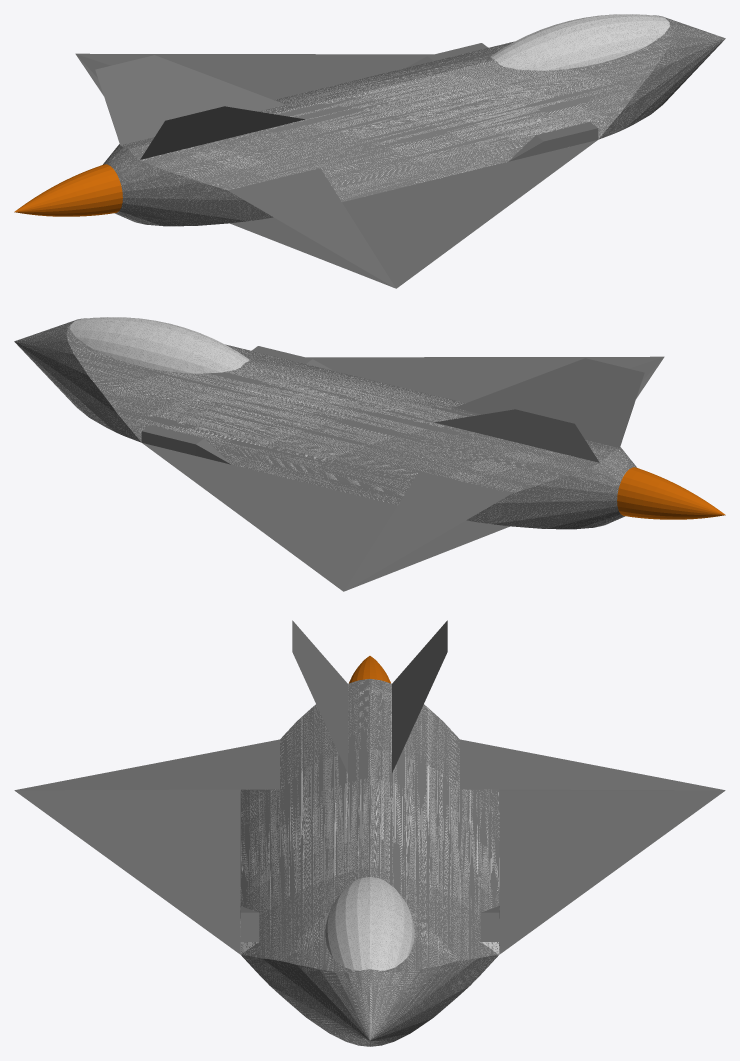
3 views of the same model, one above another, from view 1: azimuth 30°, elevation 25°; view 2: azimuth 150°, elevation 25°; view 3: azimuth 270°, elevation 25° (orthographic). The views are drawn at different scales.
Parts seen in each view (by area): view 1: mesh1_mesh1-geometry, mesh3_mesh3-geometry, mesh2_mesh2-geometry; view 2: mesh1_mesh1-geometry, mesh2_mesh2-geometry, mesh3_mesh3-geometry; view 3: mesh1_mesh1-geometry, mesh3_mesh3-geometry, mesh2_mesh2-geometry.
Part boxes in pixels (<box>): mesh1_mesh1-geometry: <box>14,14,725,288</box>; mesh3_mesh3-geometry: <box>95,55,285,145</box>; mesh2_mesh2-geometry: <box>140,106,305,159</box>; mesh1_mesh1-geometry: <box>14,317,725,591</box>; mesh2_mesh2-geometry: <box>454,358,644,448</box>; mesh3_mesh3-geometry: <box>434,409,599,462</box>; mesh1_mesh1-geometry: <box>14,656,725,1046</box>; mesh3_mesh3-geometry: <box>392,620,447,772</box>; mesh2_mesh2-geometry: <box>292,620,347,772</box>.
Bounding box in the file's own units: 0.7814 × 0.1297 × 0.6104.
